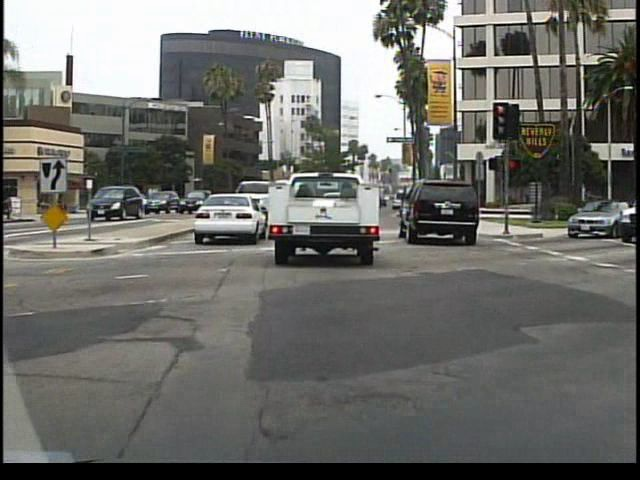person: (99, 188, 118, 222)
